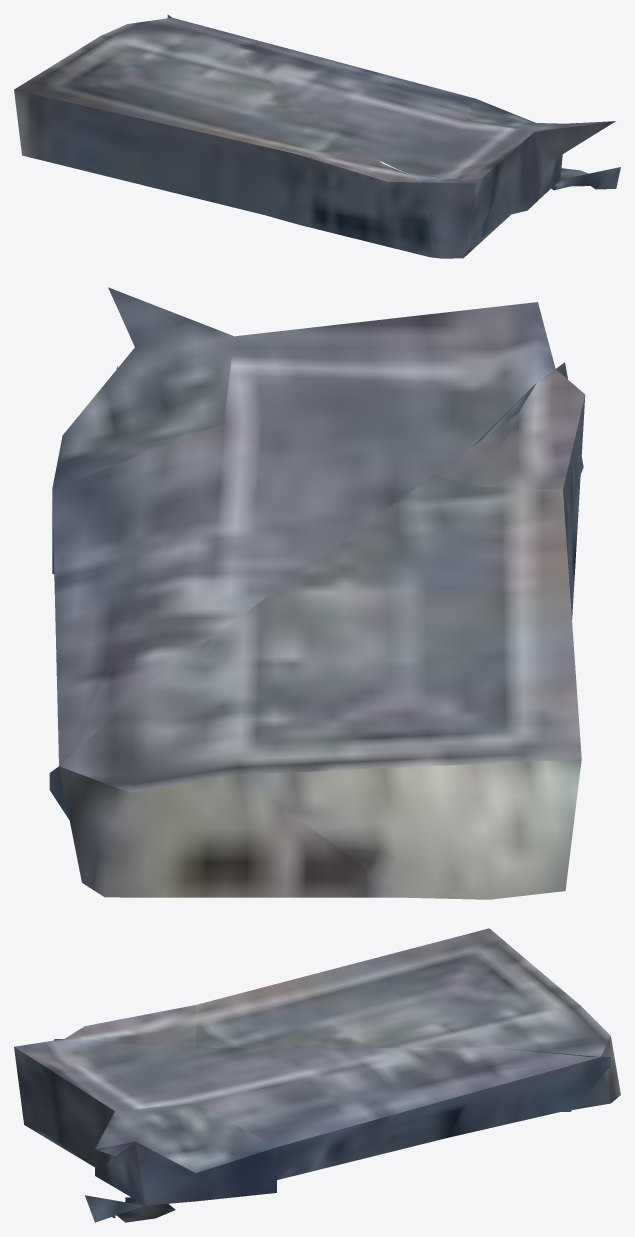
The picture shows the model from 3 angles, top to bottom: view 1: azimuth 30°, elevation 25°; view 2: azimuth 150°, elevation 25°; view 3: azimuth 270°, elevation 25°; orthographic projection. The views are drawn at different scales.
Visible parts, largest first — view 1: 3043627270436163656_0; view 2: 3043627270436163656_0; view 3: 3043627270436163656_0.
Part boxes in pixels (x1,y1,x2,y2): 3043627270436163656_0: (14, 14, 620, 258); 3043627270436163656_0: (49, 287, 585, 899); 3043627270436163656_0: (14, 928, 620, 1222).
Bounding box in the file's own units: 15.95 × 2.77 × 18.51.
Materials: 1 (1 with a texture image).
